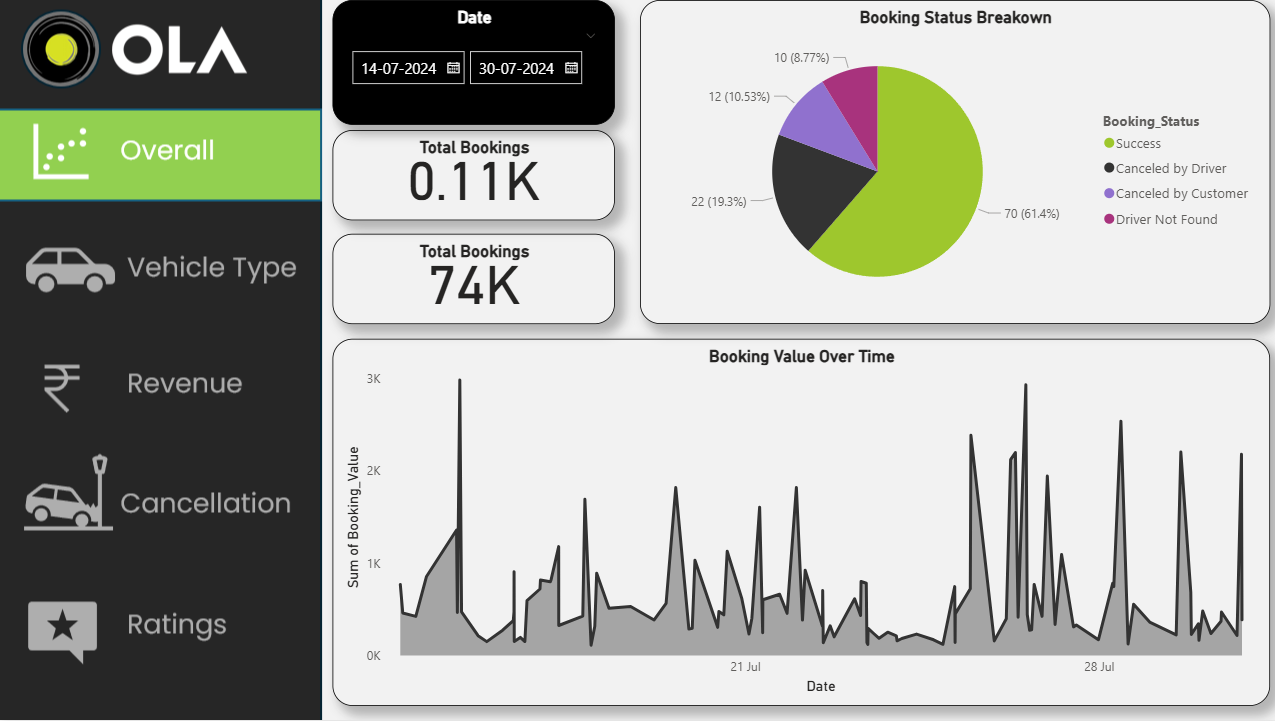

This screenshot's page, from the dashboard's own definition file:
{"tool":"powerbi","page":{"name":"Overall","canvas":[1280,720],"ordinal":0},"visuals":[{"type":"actionButton","box":[0,219.6,320.9,94.1],"z":0},{"type":"actionButton","box":[0,339,320.9,94.1],"z":1000},{"type":"actionButton","box":[0,446.4,320.9,94.1],"z":2000},{"type":"actionButton","box":[0,582.7,320.9,94.1],"z":3000},{"type":"actionButton","box":[0,107.4,320.9,94.1],"z":4000},{"type":"lineChart","title":"Booking Value Over Time ","fields":{"Y":["Sum(Bookings.Booking_Value)"],"Category":["Bookings.Date"]},"box":[332.5,338.8,937.5,367.5],"z":5000},{"type":"pieChart","title":"Booking Status Breakown","fields":{"Category":["Bookings.Booking_Status"],"Y":["CountNonNull(Bookings.Booking_Status)"]},"box":[640,0,630,323.8],"z":6000},{"type":"slicer","title":"Date","fields":{"Values":["Bookings.Date"]},"box":[332.5,0,282.5,125],"z":7000},{"type":"card","title":"Total Bookings","fields":{"Values":["CountNonNull(Bookings.Booking_ID)"]},"box":[332.5,130,282.5,90],"z":8000},{"type":"card","title":"Total Bookings","fields":{"Values":["Sum(Bookings.Booking_Value)"]},"box":[332.5,233.8,282.5,90],"z":9000}]}

Visuals, with their boxes in screenshot pixels (x1, y1, x2, y2), scaled from the page's 1280x720 canvas onto the 1275x721 screenshot:
actionButton: box(0, 220, 320, 314)
actionButton: box(0, 339, 320, 434)
actionButton: box(0, 447, 320, 541)
actionButton: box(0, 584, 320, 678)
actionButton: box(0, 108, 320, 202)
"Booking Value Over Time " lineChart: box(331, 339, 1265, 707)
"Booking Status Breakown" pieChart: box(638, 0, 1265, 324)
"Date" slicer: box(331, 0, 613, 125)
"Total Bookings" card: box(331, 130, 613, 220)
"Total Bookings" card: box(331, 234, 613, 324)
